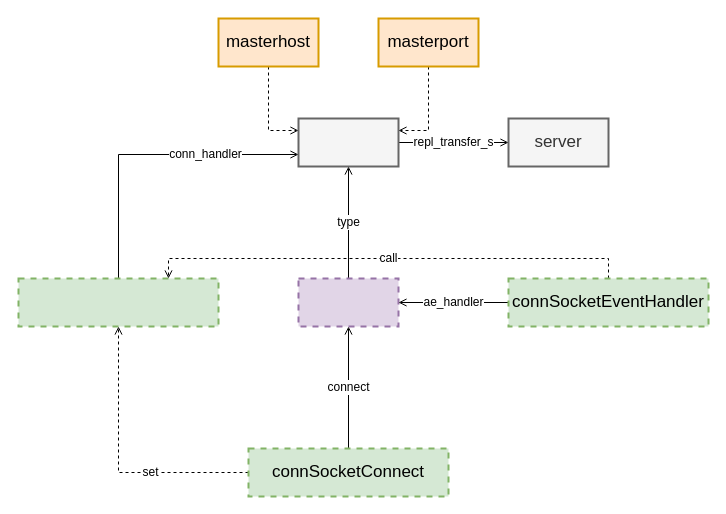
The diagram is 726 pixels wide and 514 high, and some of its shapes have lost their labels. Here are the shapes that lost their labels. From the top down, the box of each, then its label:
(297, 117, 399, 167): conn
(17, 277, 219, 327): syncWithMaster
(297, 277, 399, 327): CT_Socket
